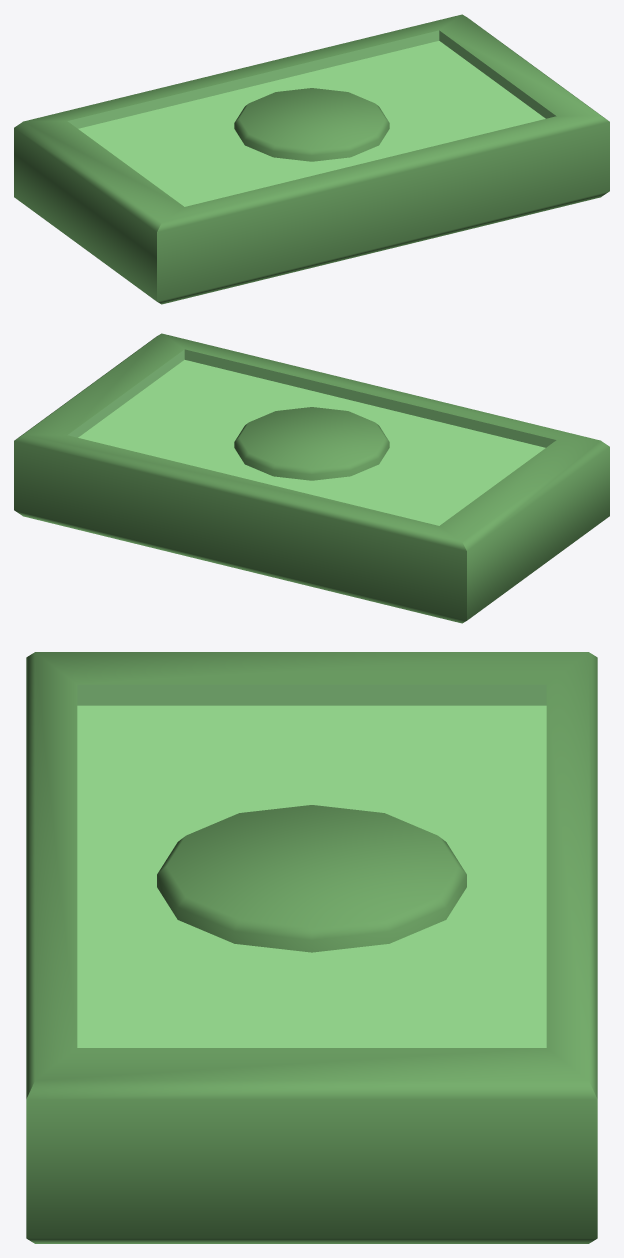
Rendered from money.fbx.
The picture shows the model from 3 angles, top to bottom: view 1: azimuth 30°, elevation 25°; view 2: azimuth 150°, elevation 25°; view 3: azimuth 270°, elevation 25°; orthographic projection. The views are drawn at different scales.
Visible parts, largest first — view 1: Cube.011; view 2: Cube.011; view 3: Cube.011.
Part boxes in pixels (<box>): Cube.011: <box>14,14,609,304</box>; Cube.011: <box>14,333,609,623</box>; Cube.011: <box>26,652,597,1243</box>.
Size of the model in its own units: 0.3454 by 0.0595 by 0.1887.
